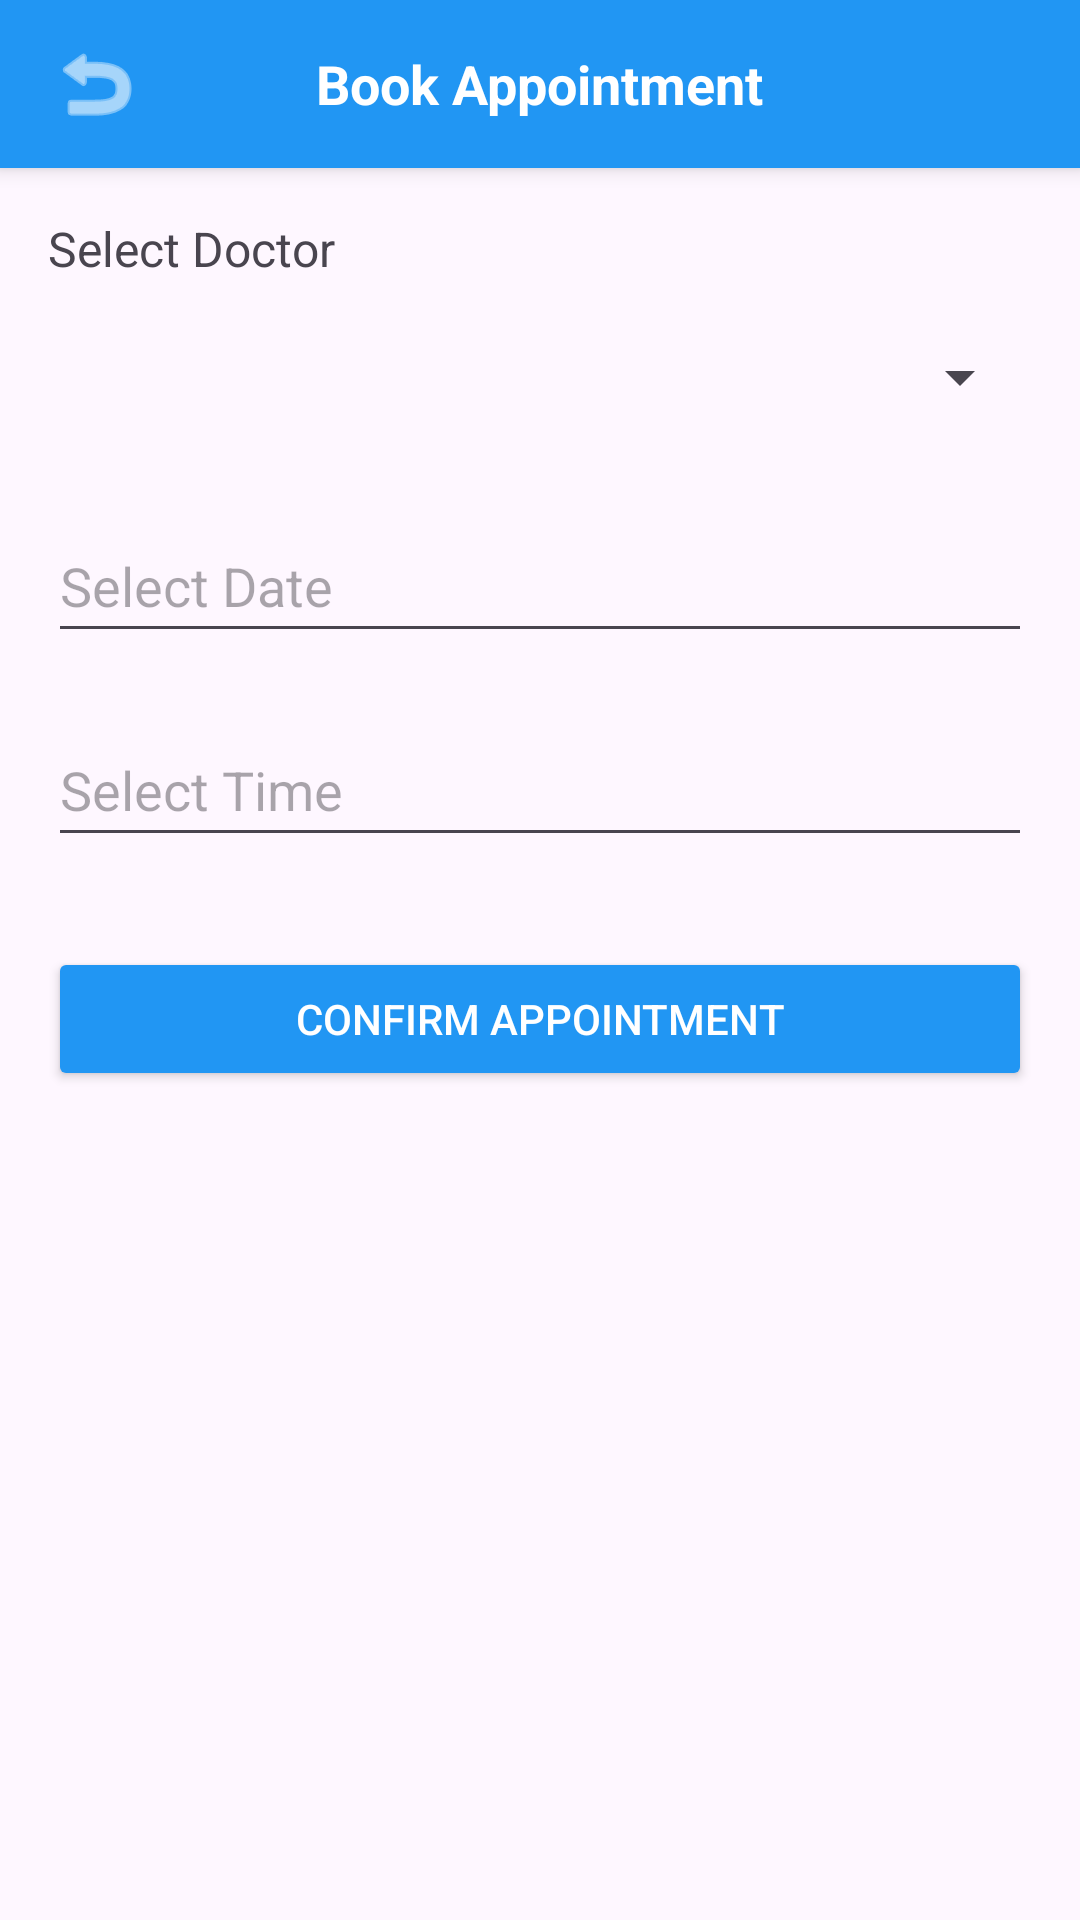

Where to tap for icons on this 1080×1920 app screen, as point (x, y):
revert: point (97, 84)
